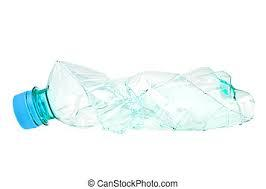plastic: (16, 58, 253, 130)
